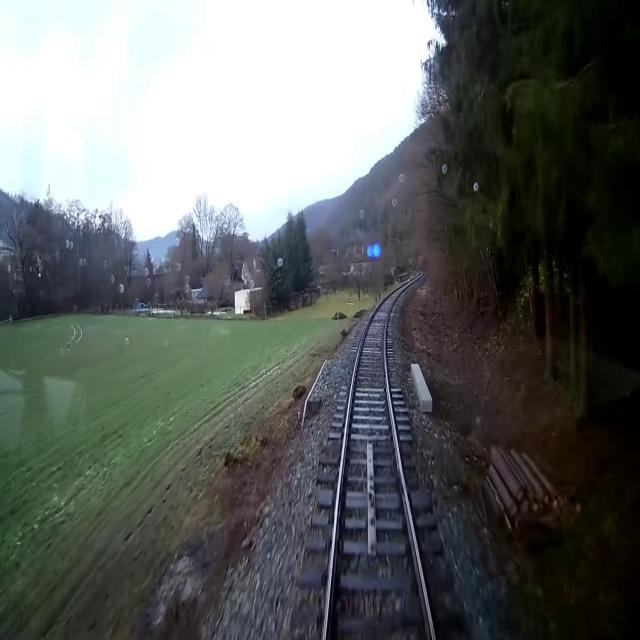rail-track: (326, 284, 431, 639)
